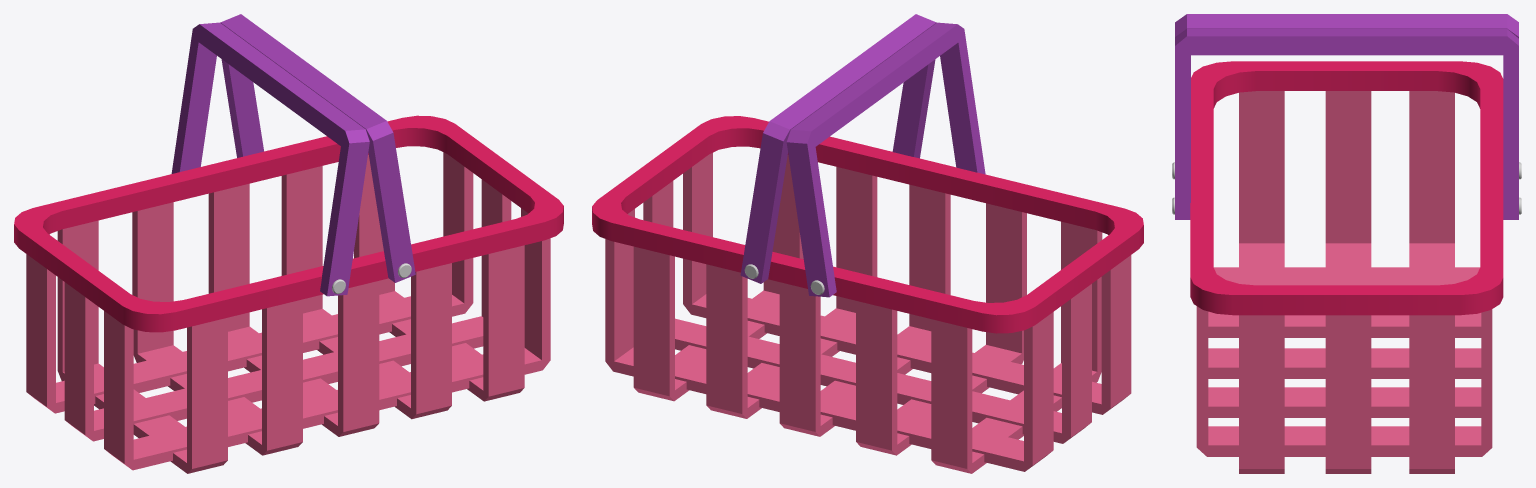
File: Basket_2.fbx
The picture shows the model from 3 angles, left to right: view 1: azimuth 30°, elevation 25°; view 2: azimuth 150°, elevation 25°; view 3: azimuth 270°, elevation 25°; orthographic projection. The views are drawn at different scales.
Parts seen in each view (by area): view 1: Basket_2; view 2: Basket_2; view 3: Basket_2.
Boxes of the visible parts, bbox=[...] form: Basket_2: bbox=[14, 14, 563, 473]; Basket_2: bbox=[592, 14, 1143, 473]; Basket_2: bbox=[1172, 14, 1521, 473].
Bounding box in the file's own units: 31.11 × 21.36 × 19.63.
Materials: 1 (1 with a texture image).
